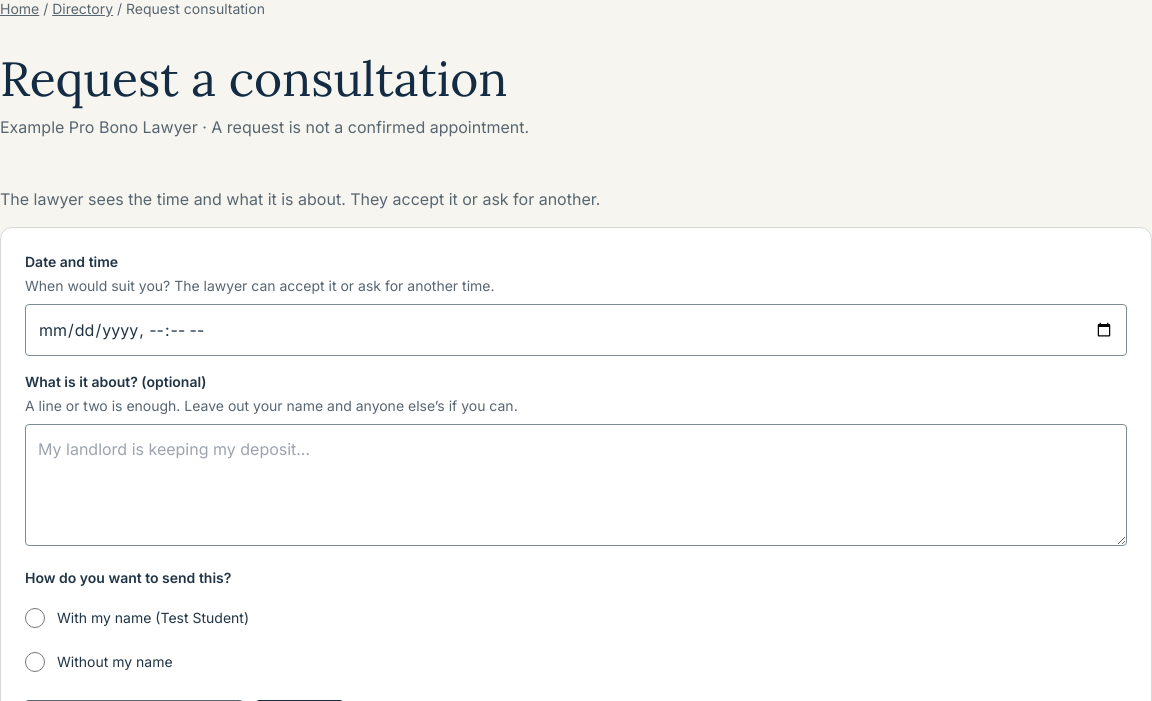
Test: Booking a lawyer: what is said about email › says an email follows an acceptance when the person chooses their name
The image size is (1152, 701).
Step 1. Click the radio button labelled "With my name (Test Student)" → x=35, y=618, box left=25, top=608, right=45, bottom=628
(page scrolled)
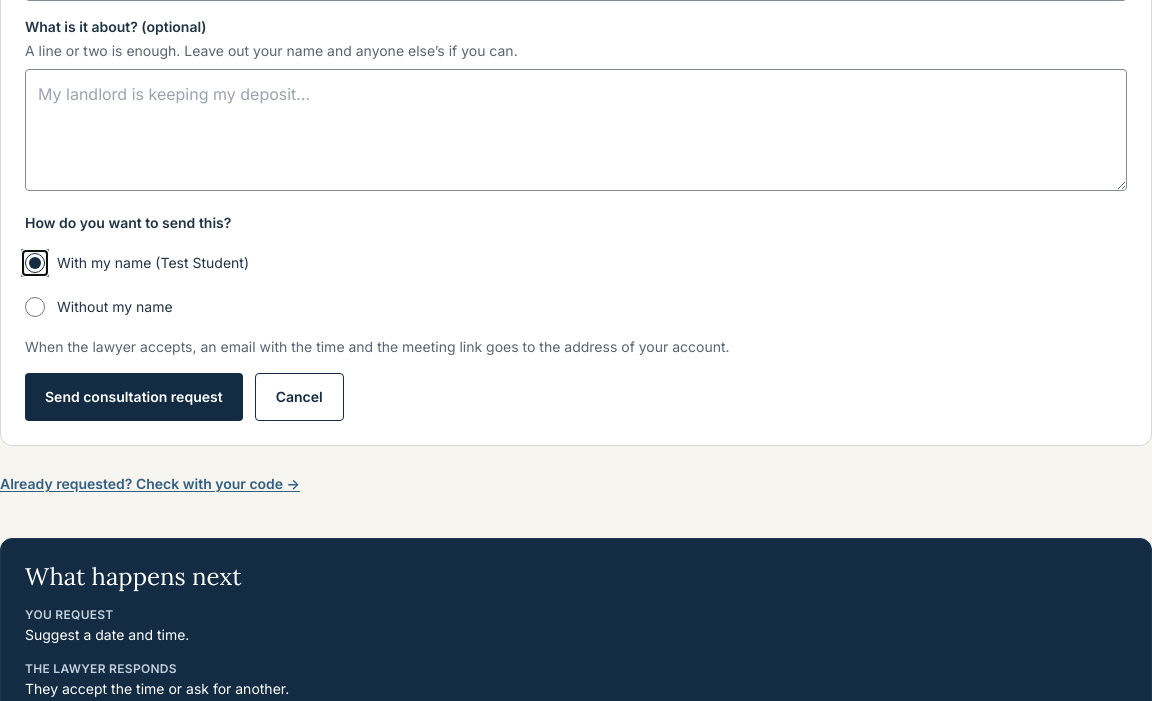
Expected: the text "an email with the time and the meeting link goes to the address of your account" is shown, left=25, top=338, right=730, bottom=355
